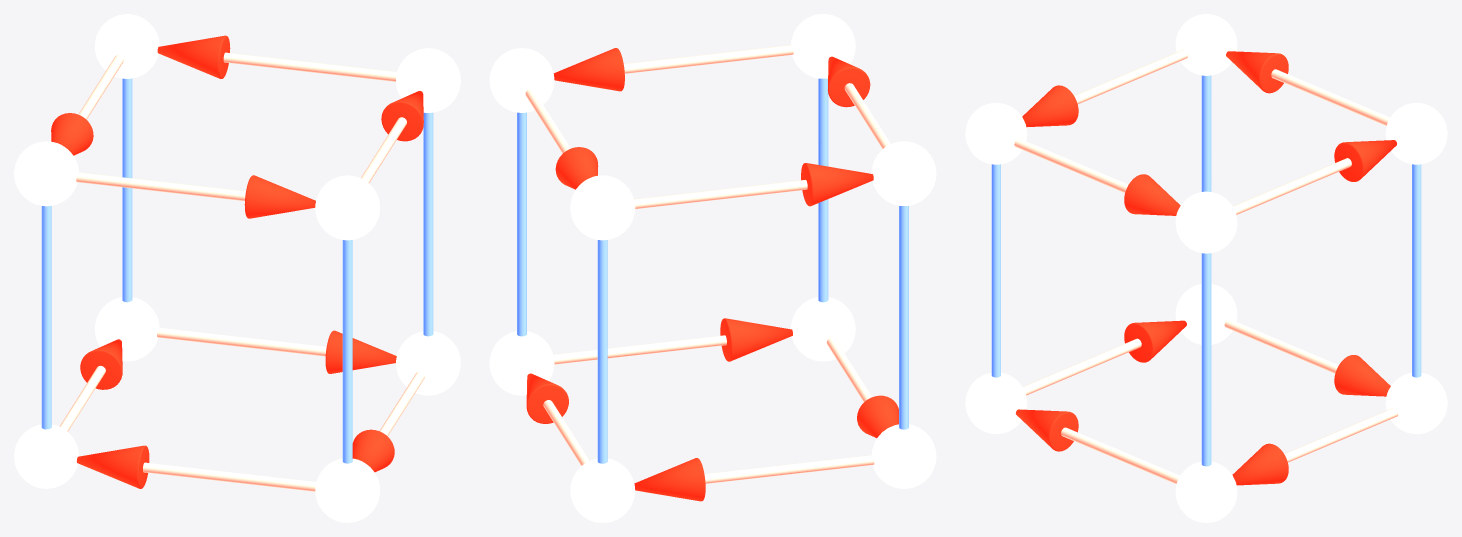
3 renders of one model, left to right at view 1: azimuth 30°, elevation 25°; view 2: azimuth 150°, elevation 25°; view 3: azimuth 270°, elevation 25°, orthographic. The views are drawn at different scales.
Parts seen in each view (by area): view 1: Sphere1.0003, Sphere1.0002, Sphere2.0003, Sphere2.0002, Sphere1.0001, Sphere2.0000, Sphere1.0000, Sphere2.0001, Vertical.0002, Vertical.0003, Vertical.0000, Vertical.0001 (+16 smaller); view 2: Sphere1.0001, Sphere1.0002, Sphere2.0001, Sphere2.0002, Sphere1.0000, Sphere2.0003, Sphere1.0003, Sphere2.0000, Vertical.0001, Vertical.0000, Vertical.0002, Vertical.0003 (+16 smaller); view 3: Sphere1.0000, Sphere2.0000, Sphere1.0001, Sphere1.0003, Sphere2.0003, Sphere2.0001, Sphere1.0002, Vertical.0000, Sphere2.0002, Vertical.0001, Vertical.0003, Arrow1.0003 (+16 smaller).
Part boxes in pixels (left/top/right/bottom): Sphere1.0003: left=315, top=175, right=379, bottom=240; Sphere1.0002: left=14, top=141, right=78, bottom=206; Sphere2.0003: left=315, top=458, right=379, bottom=522; Sphere2.0002: left=14, top=424, right=78, bottom=488; Sphere1.0001: left=95, top=14, right=159, bottom=78; Sphere2.0000: left=396, top=331, right=460, bottom=395; Sphere1.0000: left=396, top=48, right=460, bottom=112; Sphere2.0001: left=95, top=297, right=159, bottom=361; Vertical.0002: left=41, top=205, right=51, bottom=429; Vertical.0003: left=342, top=240, right=352, bottom=463; Vertical.0000: left=423, top=112, right=433, bottom=336; Vertical.0001: left=122, top=78, right=132, bottom=302; Sphere1.0001: left=570, top=175, right=635, bottom=240; Sphere1.0002: left=871, top=141, right=936, bottom=205; Sphere2.0001: left=570, top=458, right=635, bottom=522; Sphere2.0002: left=871, top=424, right=936, bottom=488; Sphere1.0000: left=489, top=48, right=554, bottom=112; Sphere2.0003: left=790, top=297, right=855, bottom=361; Sphere1.0003: left=791, top=14, right=855, bottom=78; Sphere2.0000: left=489, top=331, right=554, bottom=395; Vertical.0001: left=597, top=240, right=607, bottom=463; Vertical.0000: left=517, top=112, right=526, bottom=336; Vertical.0002: left=899, top=206, right=908, bottom=429; Vertical.0003: left=818, top=78, right=828, bottom=302; Sphere1.0000: left=1175, top=191, right=1237, bottom=253; Sphere2.0000: left=1175, top=461, right=1237, bottom=522; Sphere1.0001: left=1385, top=103, right=1447, bottom=164; Sphere1.0003: left=965, top=103, right=1027, bottom=164; Sphere2.0003: left=965, top=372, right=1027, bottom=433; Sphere2.0001: left=1385, top=372, right=1447, bottom=433; Sphere1.0002: left=1175, top=14, right=1237, bottom=75; Vertical.0000: left=1201, top=253, right=1211, bottom=466; Sphere2.0002: left=1175, top=284, right=1237, bottom=344; Vertical.0001: left=1412, top=164, right=1421, bottom=377; Vertical.0003: left=991, top=164, right=1000, bottom=377; Arrow1.0003: left=1124, top=174, right=1180, bottom=215.
Bounding box in the file's own units: 1.01 × 0.752 × 1.01.
